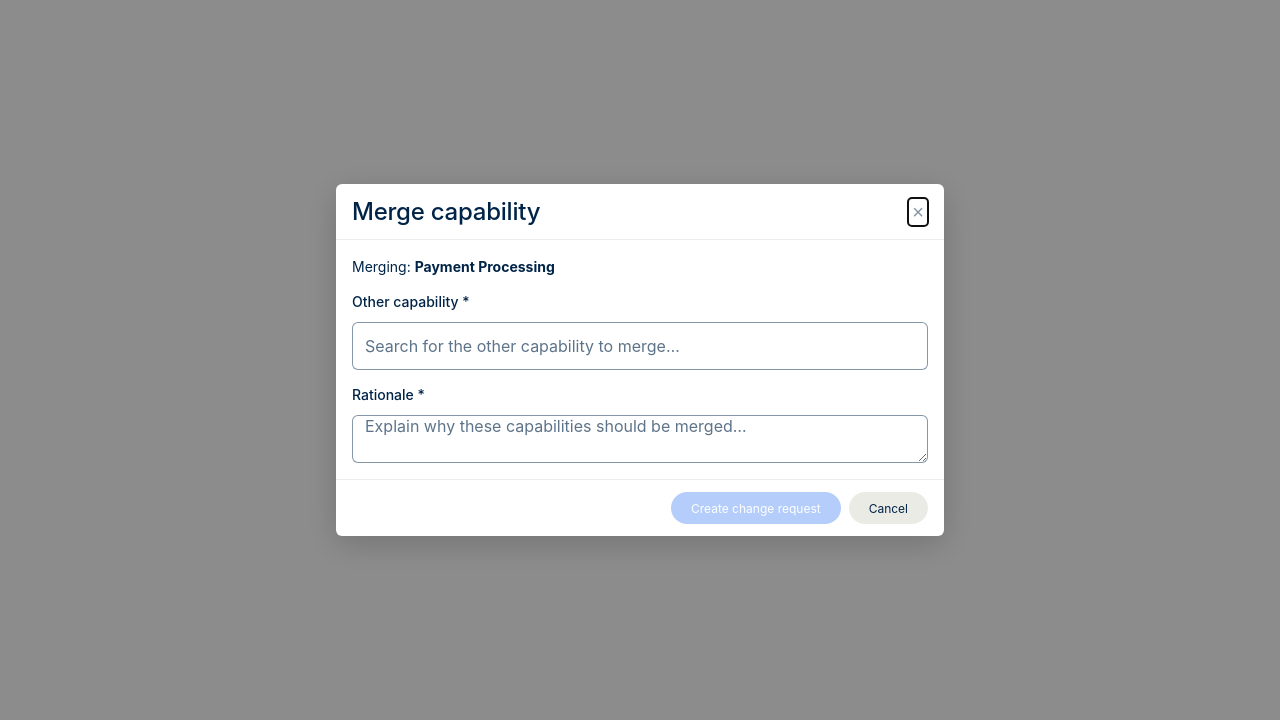
Test: MergeDialog › should show survivor radio buttons after selecting other capability
The image size is (1280, 720).
Step 1. Type "Risk" into the field labelled "Search for the other capability to merge…" → x=640, y=346, box [352, 322, 928, 370]
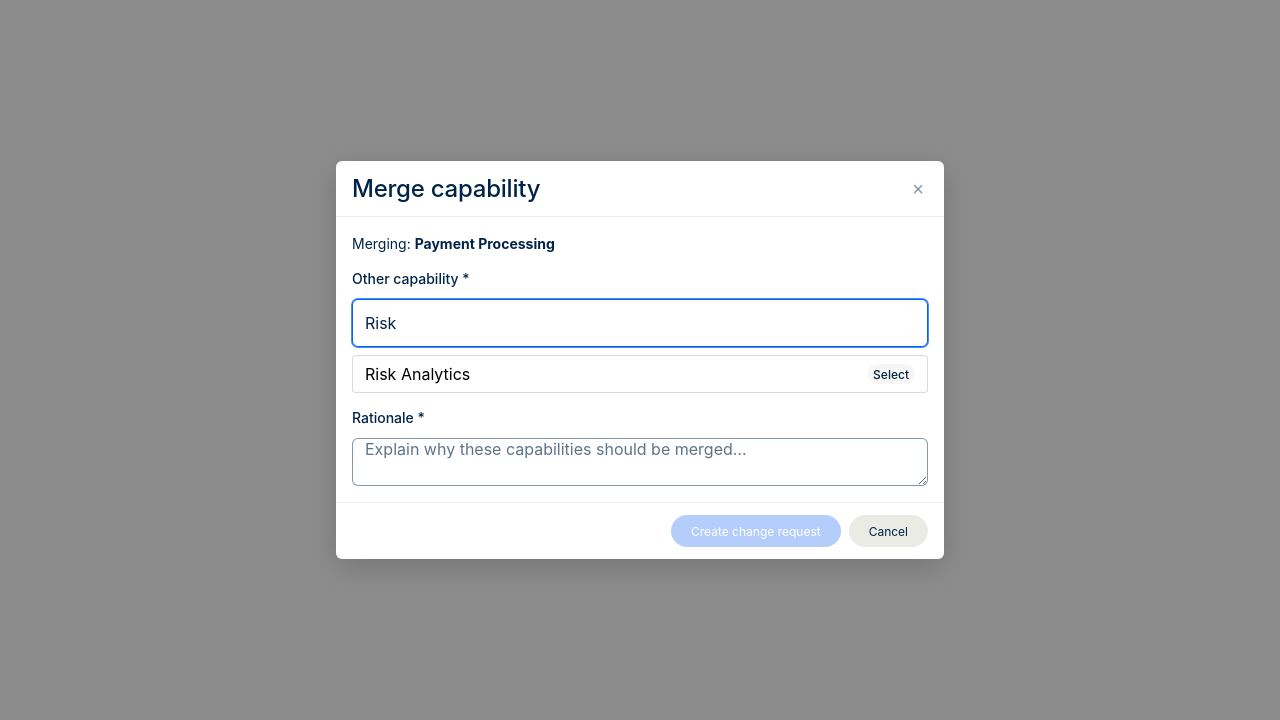
Step 2. Click the text "Risk Analytics" → x=418, y=374, box [365, 364, 470, 384]
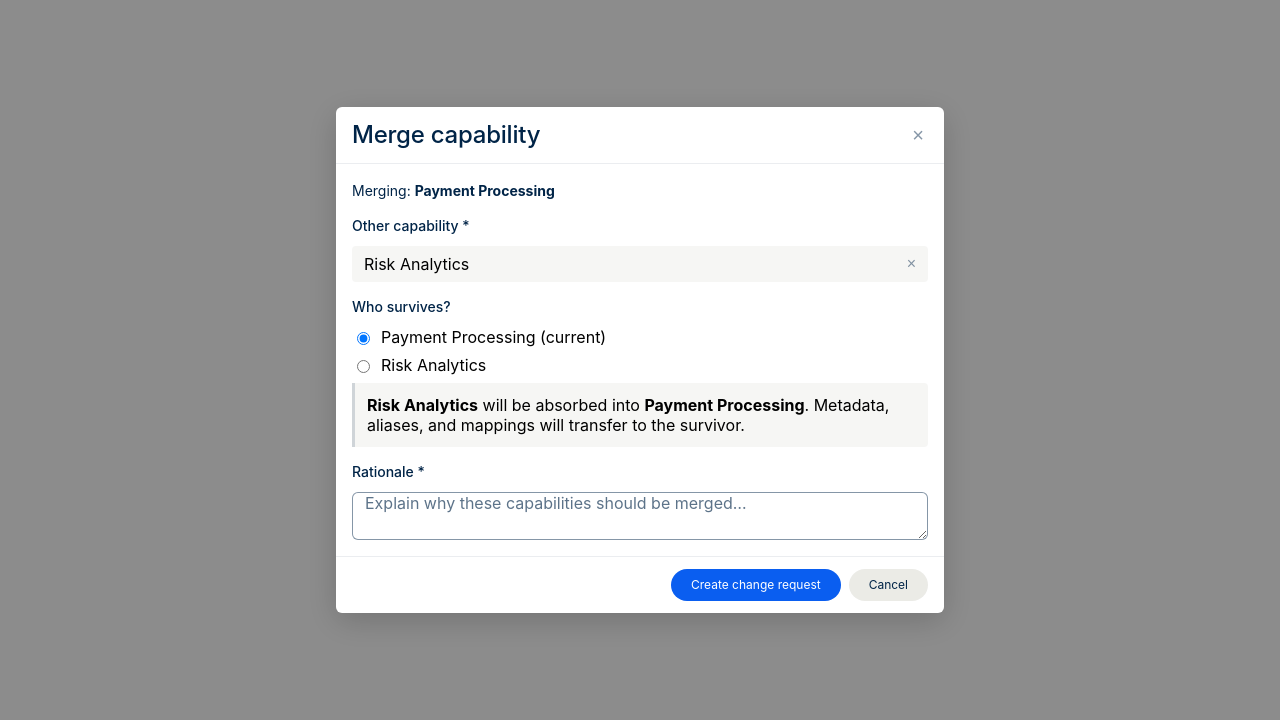
Expected: the radio button labelled "Payment Processing (current)" is shown, [357, 332, 370, 345]
Expected: the radio button labelled "Risk Analytics" is shown, [357, 360, 370, 373]
